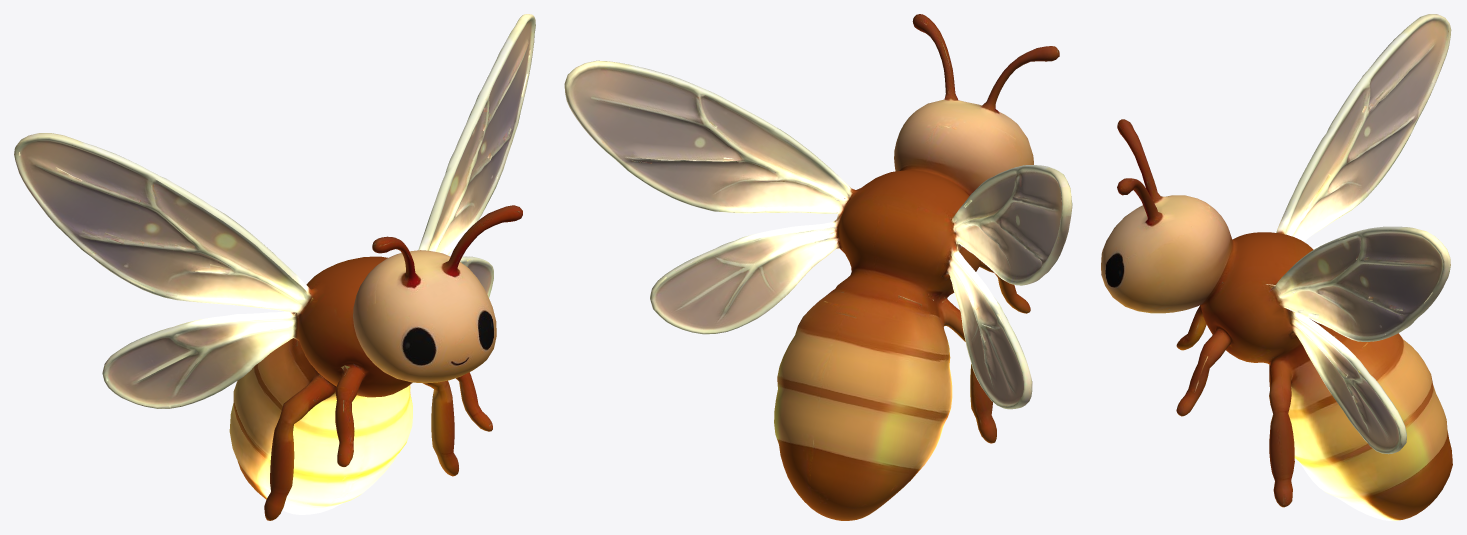
File: A01_bee.glb
3 renders of one model, left to right at view 1: azimuth 30°, elevation 25°; view 2: azimuth 150°, elevation 25°; view 3: azimuth 270°, elevation 25°, orthographic. The views are drawn at different scales.
Parts seen in each view (by area): view 1: bee; view 2: bee; view 3: bee.
Boxes of the visible parts, x1,y1,x2,y2 form: bee: (14,14,535,520); bee: (564,14,1072,520); bee: (1101,14,1452,520).
Size of the model in its own units: 1.9 by 1.47 by 1.19.
Materials: 1 (1 with a texture image).
